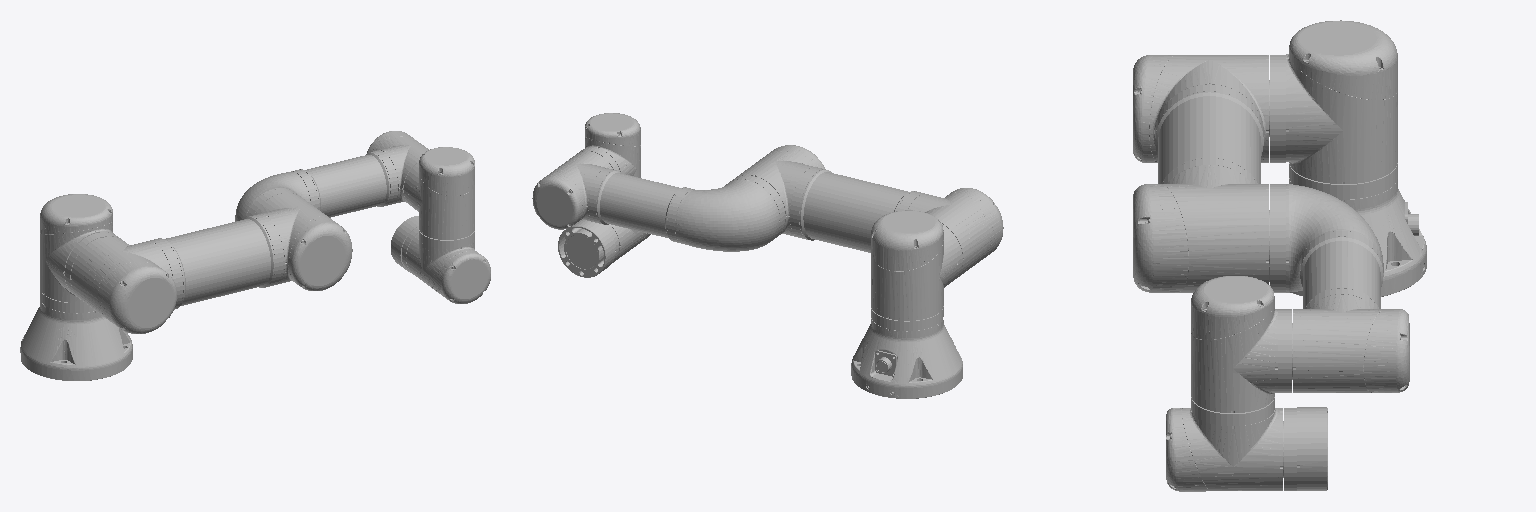
robot.urdf — arm:
<?xml version="1.0" encoding="utf-8"?>
<!-- This URDF was automatically created by SolidWorks to URDF Exporter! Originally created by Stephen Brawner (brawner@gmail.com) 
     Commit Version: 1.5.1-0-g916b5db  Build Version: 1.5.7152.31018
     For more information, please see http://wiki.ros.org/sw_urdf_exporter -->
<robot name="arm">
  <link name="base_link">
    <inertial>
    <origin
      xyz="0 0 0"
      rpy="0 0 0" />
      <mass
        value="0.21489" />
      <inertia
        ixx="0.00012386"
        ixy="8.4891E-10"
        ixz="-4.4752E-07"
        iyy="0.00011773"
        iyz="-2.3379E-11"
        izz="0.00014456" />
    </inertial>
    <visual>
      <origin
        xyz="0 0 0"
        rpy="0 0 0" />
      <geometry>
        <mesh
          filename="package://icrp_urdf/meshes/co602_490/base_link.STL" />
      </geometry>
      <material name="">
        <color
          rgba="0.75294 0.75294 0.75294 1" />
      </material>
    </visual>
    <collision>
      <origin
        xyz="0 0 0"
        rpy="0 0 0" />
      <geometry>
        <mesh
          filename="package://icrp_urdf/meshes/co602_490/base_link.STL" />
      </geometry>
    </collision>
  </link>
  <link name="link1">
    <inertial>
    <origin
      xyz="0 0 0"
      rpy="0 0 0" />
      <mass
        value="0.28474" />
      <inertia
        ixx="0.00013194"
        ixy="-1.7444E-09"
        ixz="-1.1686E-05"
        iyy="0.00013718"
        iyz="6.4557E-10"
        izz="0.00013887" />
    </inertial>
    <visual>
      <origin
        xyz="0 0 -0.125"
        rpy="0 0 3.14" />
      <geometry>
        <mesh
          filename="package://icrp_urdf/meshes/co602_490/link1.STL" />
      </geometry>
      <material
        name="">
        <color
          rgba="0.75294 0.75294 0.75294 1" />
      </material>
    </visual>
    <collision>
      <origin
        xyz="0 0 -0.125"
        rpy="0 0 3.14" />
      <geometry>
        <mesh
          filename="package://icrp_urdf/meshes/co602_490/link1.STL" />
      </geometry>
    </collision>
  </link>
  <joint name="joint_1" type="revolute">
    <origin
      xyz="0 0 0.125"
      rpy="0 0 0" />
    <parent
      link="base_link" />
    <child
      link="link1" />
    <axis
      xyz="0 0 1" />
    <limit
      lower="-3"
      upper="3"
      effort="0"
      velocity="0" />
  </joint>
  <link name="link2">
    <inertial>
    <origin
      xyz="0 0 0"
      rpy="0 0 0" />
      <mass
        value="0.89644" />
      <inertia
        ixx="0.0007066"
        ixy="1.2001E-09"
        ixz="8.4306E-20"
        iyy="0.00040071"
        iyz="8.4495E-21"
        izz="0.00070392" />
    </inertial>
    <visual>
      <origin
        xyz="-0.125 0 0.0965"
        rpy="-1.57 0 -1.57" />
      <geometry>
        <mesh
          filename="package://icrp_urdf/meshes/co602_490/link2.STL" />
      </geometry>
      <material
        name="">
        <color
          rgba="0.75294 0.75294 0.75294 1" />
      </material>
    </visual>
    <collision>
      <origin
        xyz="-0.125 0 0.0965"
        rpy="-1.57 0 -1.57" />
      <geometry>
        <mesh
          filename="package://icrp_urdf/meshes/co602_490/link2.STL" />
      </geometry>
    </collision>
  </link>
  <joint  name="joint_2" type="revolute">
    <origin
      xyz="0 -0.0965 0"
      rpy="-1.57 0 0" />
    <parent
      link="link1" />
    <child
      link="link2" />
    <axis
      xyz="0 0 1" />
    <limit
      lower="-2.09"
      upper="2.09"
      effort="0"
      velocity="0" />
  </joint>
  <link  name="link3">
	<inertial>
    <origin
      xyz="0 0 0"
      rpy="0 0 0" />
      <mass
        value="0.47145" />
      <inertia
        ixx="0.00023614"
        ixy="9.9301E-10"
        ixz="-2.3681E-09"
        iyy="0.00013622"
        iyz="7.8682E-06"
        izz="0.0002462" />
    </inertial>
    <visual>
      <origin
        xyz="-0.345 0 0.0965"
        rpy="-1.57 0 -1.57" />
      <geometry>
        <mesh
          filename="package://icrp_urdf/meshes/co602_490/link3.STL" />
      </geometry>
      <material
        name="">
        <color
          rgba="0.75294 0.75294 0.75294 1" />
      </material>
    </visual>
    <collision>
      <origin
        xyz="-0.345 0 0.0965"
        rpy="-1.57 0 -1.57" />
      <geometry>
        <mesh
          filename="package://icrp_urdf/meshes/co602_490/link3.STL" />
      </geometry>
    </collision>
  </link>
  <joint name="joint_3" type="revolute">
    <origin
      xyz="0.22 0 0"
      rpy="0 0 0" />
    <parent
      link="link2" />
    <child
      link="link3" />
    <axis
      xyz="0 0 1" />
    <limit
      lower="-2.6"
      upper="2.6"
      effort="0"
      velocity="0" />
  </joint>
  <link name="link4">
    <inertial>
    <origin
      xyz="0 0 0"
      rpy="0 0 0" />
      <mass
        value="0.13771" />
      <inertia
        ixx="3.9936E-05"
        ixy="7.1527E-11"
        ixz="3.1643E-10"
        iyy="4.3211E-05"
        iyz="3.3237E-06"
        izz="3.8225E-05" />
    </inertial>
    <visual>
      <origin
        xyz="0 -0.5365 0.0015"
        rpy="-1.57 0 0" />
      <geometry>
        <mesh
          filename="package://icrp_urdf/meshes/co602_490/link4.STL" />
      </geometry>
      <material
        name="">
        <color
          rgba="0.75294 0.75294 0.75294 1" />
      </material>
    </visual>
    <collision>
      <origin
        xyz="0 -0.5365 0.0015"
        rpy="-1.57 0 0" />
      <geometry>
        <mesh
          filename="package://icrp_urdf/meshes/co602_490/link4.STL" />
      </geometry>
    </collision>
  </link>
  <joint name="joint_4" type="revolute">
    <origin
      xyz="0.1915 0 0.095"
      rpy="0 0 0" />
    <parent
      link="link3" />
    <child
      link="link4" />
    <axis
      xyz="0 0 1" />
    <limit
      lower="-3"
      upper="3"
      effort="0"
      velocity="0" />
  </joint>
  <link name="link5">
    <inertial>
    <origin
      xyz="0 0 0"
      rpy="0 0 0" />
      <mass
        value="0.13771" />
      <inertia
        ixx="4.3211E-05"
        ixy="-7.2359E-11"
        ixz="-3.3237E-06"
        iyy="3.9935E-05"
        iyz="-4.3362E-10"
        izz="3.8225E-05" />
    </inertial>
    <visual>
      <origin
        xyz="0 -0.080 0.5365"
        rpy="3.14 0 3.14" />
      <geometry>
        <mesh
          filename="package://icrp_urdf/meshes/co602_490/link5.STL" />
      </geometry>
      <material
        name="">
        <color
          rgba="0.75294 0.75294 0.75294 1" />
      </material>
    </visual>
    <collision>
      <origin
        xyz="0 -0.080 0.5365"
        rpy="3.14 0 3.14" />
      <geometry>
        <mesh
          filename="package://icrp_urdf/meshes/co602_490/link5.STL" />
      </geometry>
    </collision>
  </link>
  <joint name="joint_5" type="revolute">
    <origin
      xyz="0 0 -0.0785"
      rpy="1.57 0 0" />
    <parent
      link="link4" />
    <child
      link="link5" />
    <axis
      xyz="0 0 1" />
    <limit
      lower="-3"
      upper="3"
      effort="0"
      velocity="0" />
  </joint>
  <link name="link6">
	<inertial>
    <origin
      xyz="0 0 0"
      rpy="0 0 0" />
      <mass
        value="0.052428" />
      <inertia
        ixx="1.2291E-05"
        ixy="5.4308E-08"
        ixz="-3.9338E-07"
        iyy="1.2524E-05"
        iyz="-2.2177E-07"
        izz="1.4037E-05" />
    </inertial>
    <visual>
      <origin
        xyz="0 -0.615 -0.080"
        rpy="1.57 0 -3.14" />
      <geometry>
        <mesh
          filename="package://icrp_urdf/meshes/co602_490/link6.STL" />
      </geometry>
      <material
        name="">
        <color
          rgba="0.75294 0.75294 0.75294 1" />
      </material>
    </visual>
    <collision>
      <origin
        xyz="0 -0.615 -0.080"
        rpy="1.57 0 -3.14" />
      <geometry>
        <mesh
          filename="package://icrp_urdf/meshes/co602_490/link6.STL" />
      </geometry>
    </collision>
  </link>
  <joint name="joint_6" type="revolute">
    <origin
      xyz="0 0 -0.0785"
      rpy="-1.57 0 0" />
    <parent
      link="link5" />
    <child
      link="link6" />
    <axis
      xyz="0 0 1" />
    <limit
      lower="-3.0"
      upper="3.0"
      effort="0"
      velocity="0" />
  </joint>
   <link name="gripper">
    <visual>
      <origin rpy="0 0 0" xyz="0 0 0"/>
      <geometry>
  	<box size="0.001 0.0005 0.0005"/>
      </geometry>
      <material name="">
        <color rgba="0.75294 0.75294 0.75294 1"/>
      </material>
    </visual>
    <collision>
      <origin rpy="0 0 0" xyz="0 0 0"/>
      <geometry>
       <box size="0.001 0.0005 0.0005"/>
      </geometry>
    </collision>
  </link>
  <joint name="gripper_robot_joint" type="fixed">
    <parent link="link6"/>
    <child link="gripper"/>
    <origin rpy="0 0 0" xyz="0.0 0 0.0"/>
  </joint>
  
  <link name="pick_gripper_link">
    <visual>
      <origin rpy="0 0 0" xyz="0 0 0"/>
      <geometry>
        <box size="0.001 0.0005 0.0005"/>
      </geometry>
    </visual>
  </link>

  <joint name="pick_gripper_joint" type="fixed">

    <origin rpy="0 0 0" xyz="0 0 0"/>

    <axis xyz="0 0 1"/>
    <parent link="gripper"/>
    <child link="pick_gripper_link"/>
  </joint>
  
</robot>

--- What the picture shows (computed from the rendered views, not written in the file) ---
The picture shows the robot from 3 angles, left to right: view 1: azimuth 30°, elevation 25°; view 2: azimuth 150°, elevation 25°; view 3: azimuth 270°, elevation 25°; orthographic projection.
Model arm with 9 links and 8 joints (6 revolute, 2 fixed), rooted at base_link, posed all joints at 0.
Links seen in each view (by area): view 1: link2, link3, base_link, link4, link1, link5, link6; view 2: link3, link2, link1, base_link, link6, link4, link5; view 3: link2, link3, link1, link4, link5, base_link, link6.
Boxes of the visible links, x1,y1,x2,y2 form: link2: [65, 189, 352, 333]; link3: [235, 131, 428, 221]; base_link: [20, 300, 132, 380]; link4: [408, 147, 474, 248]; link1: [40, 194, 114, 312]; link5: [402, 226, 490, 303]; link6: [391, 216, 418, 272]; link3: [532, 148, 779, 251]; link2: [730, 145, 1003, 281]; link1: [871, 210, 957, 330]; base_link: [851, 318, 962, 398]; link6: [558, 219, 615, 277]; link4: [585, 113, 640, 177]; link5: [604, 224, 650, 262]; link2: [1133, 55, 1285, 292]; link3: [1278, 184, 1409, 392]; link1: [1286, 20, 1397, 199]; link4: [1191, 276, 1277, 425]; link5: [1166, 408, 1296, 491]; base_link: [1269, 178, 1426, 296]; link6: [1297, 407, 1327, 490].
Bounding box of the posed robot: 0.502 × 0.2114 × 0.1805 m (x, y, z).
7 mesh visuals loaded from 7 distinct referenced files (7 binary STL).
